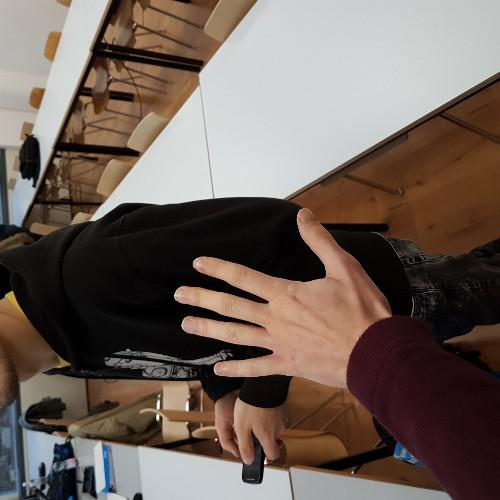paper: (160, 198, 423, 414)
